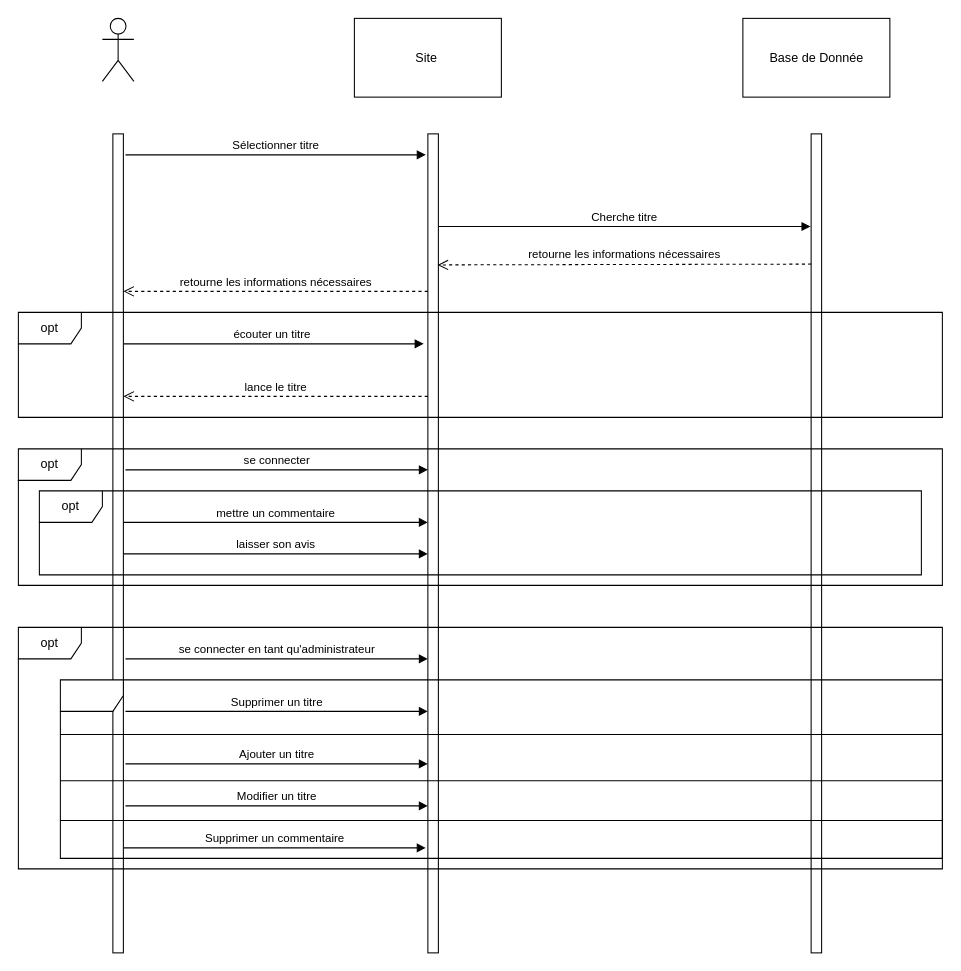
Some shapes in this 961 by 971 pixel diagram are drawn without their labels. Here are the shapes that lost their labels. From the top down, the centre of each, then its label:
point 117,49: Utilisateur
point 500,768: alt
